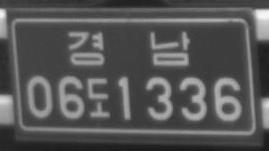0: (26, 73, 54, 118)
1: (114, 75, 135, 120)
3: (145, 74, 174, 122), (179, 76, 207, 123)
6: (213, 75, 243, 123), (57, 74, 86, 120)
경남_D: (67, 30, 190, 68)
도: (86, 76, 111, 119)
